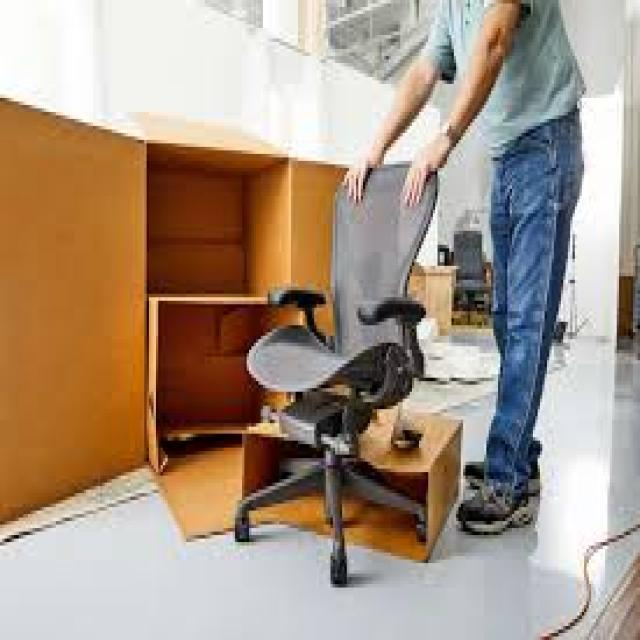chair: (158, 114, 484, 617)
